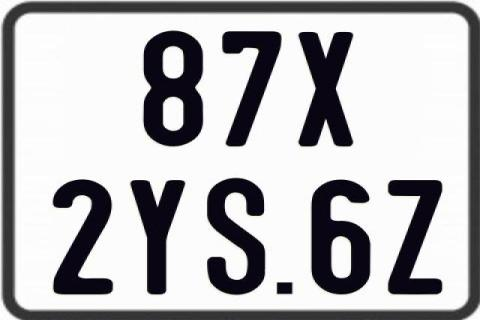0: (309, 178, 373, 294), (50, 177, 111, 296), (143, 28, 205, 144), (221, 30, 281, 146)
S: (205, 178, 266, 300)
X: (299, 31, 357, 149)
Y: (129, 177, 185, 297)
Z: (388, 180, 443, 299)
